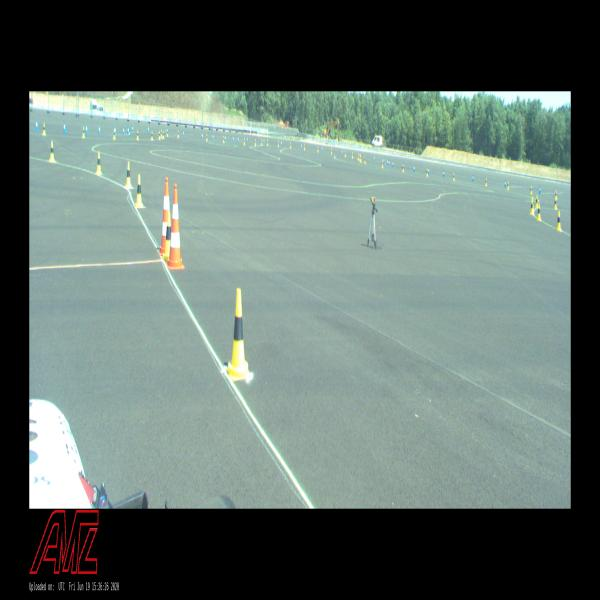blue_cone: (85, 124, 88, 134), (35, 120, 38, 130), (63, 122, 66, 132), (114, 126, 117, 135), (98, 126, 101, 134), (504, 180, 507, 187), (123, 126, 125, 135), (128, 126, 130, 134), (183, 130, 185, 138), (202, 132, 204, 140), (413, 164, 415, 172), (442, 170, 444, 178), (539, 186, 541, 194), (392, 160, 394, 168), (383, 157, 385, 164), (224, 135, 226, 142), (388, 160, 390, 167), (402, 163, 404, 170), (232, 136, 234, 142), (472, 175, 474, 181), (132, 126, 134, 132), (148, 127, 150, 133), (165, 128, 167, 134), (212, 134, 214, 140), (373, 155, 375, 161), (359, 153, 361, 159), (246, 137, 248, 142), (341, 150, 343, 155), (263, 139, 265, 144), (428, 167, 429, 175), (387, 158, 388, 166), (238, 136, 239, 142), (301, 144, 302, 149), (281, 141, 282, 146), (321, 147, 322, 151)
large_orange_cone: (166, 184, 185, 269), (158, 178, 170, 254)
yellow_cone: (226, 288, 250, 380), (163, 211, 171, 261), (135, 174, 143, 207), (126, 162, 132, 188), (96, 151, 102, 175), (49, 141, 55, 162), (556, 211, 562, 231), (536, 204, 542, 220), (530, 199, 534, 214), (42, 123, 46, 135), (113, 128, 116, 140), (554, 198, 557, 209), (82, 127, 85, 138), (158, 131, 161, 140), (162, 130, 165, 139), (536, 196, 538, 208), (532, 197, 534, 209), (137, 130, 139, 140), (555, 190, 557, 200), (151, 131, 153, 140), (160, 129, 162, 138), (485, 177, 487, 186), (507, 181, 509, 190), (530, 186, 532, 195), (177, 130, 179, 138), (206, 134, 208, 142), (222, 136, 224, 144), (402, 164, 404, 172), (426, 168, 428, 176), (453, 173, 455, 180), (364, 157, 366, 164), (317, 146, 319, 152), (359, 155, 361, 161), (167, 129, 168, 137), (244, 138, 245, 146), (382, 160, 383, 168), (290, 142, 291, 149), (331, 148, 332, 155), (358, 153, 359, 160), (360, 155, 361, 162), (255, 139, 256, 145), (267, 140, 268, 146), (278, 141, 279, 147), (304, 144, 305, 150), (345, 151, 346, 157), (352, 152, 353, 158), (262, 139, 262, 145)
